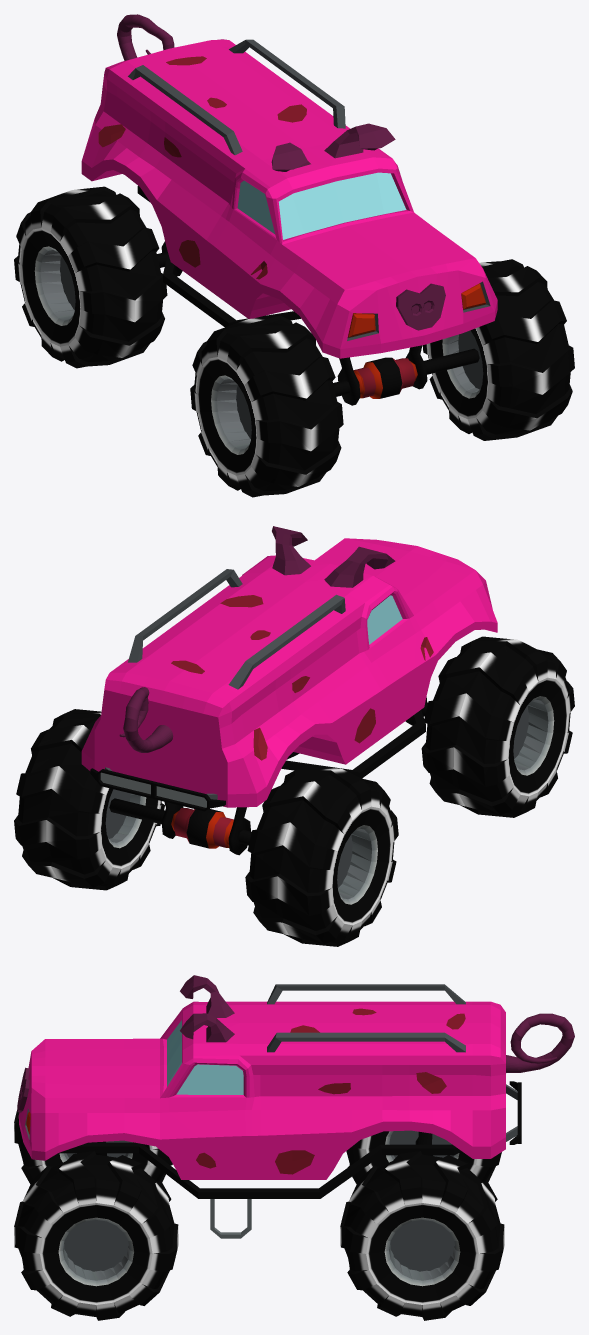
File: Pig.fbx
3 views of the same model, one above another, from view 1: azimuth 30°, elevation 25°; view 2: azimuth 150°, elevation 25°; view 3: azimuth 270°, elevation 25° (orthographic). The views are drawn at different scales.
Visible parts, largest first — view 1: Monster_Truck_Body, Wheel_FR, Wheel_RR, Wheel_FL, Monster_Truck_Livery, Axel Front; view 2: Monster_Truck_Body, Wheel_RR, Wheel_FR, Wheel_RL, Axel Back, Monster_Truck_Livery; view 3: Monster_Truck_Body, Wheel_RL, Wheel_FL, Monster_Truck_Livery, Wheel_RR, Wheel_FR.
Boxes of the visible parts, left/top/right/bottom form: Monster_Truck_Body: left=81, top=39, right=497, bottom=358; Wheel_FR: left=190, top=315, right=343, bottom=497; Wheel_RR: left=14, top=186, right=167, bottom=368; Wheel_FL: left=422, top=259, right=574, bottom=440; Monster_Truck_Livery: left=98, top=14, right=445, bottom=330; Axel Front: left=333, top=345, right=479, bottom=405; Monster_Truck_Body: left=81, top=526, right=497, bottom=811; Wheel_RR: left=245, top=765, right=398, bottom=946; Wheel_FR: left=421, top=636, right=574, bottom=817; Wheel_RL: left=14, top=709, right=164, bottom=890; Axel Back: left=109, top=798, right=251, bottom=855; Monster_Truck_Livery: left=119, top=595, right=433, bottom=760; Monster_Truck_Body: left=18, top=975, right=521, bottom=1238; Wheel_RL: left=340, top=1151, right=504, bottom=1320; Wheel_FL: left=14, top=1151, right=178, bottom=1320; Monster_Truck_Livery: left=17, top=1008, right=574, bottom=1174; Wheel_RR: left=346, top=1130, right=501, bottom=1184; Wheel_FR: left=14, top=1110, right=172, bottom=1184.
Size of the model in its own units: 485 by 417 by 818.
